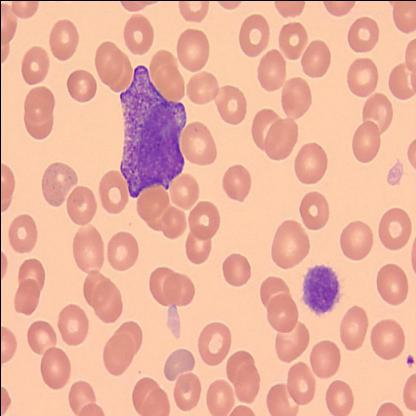Myelocyte: (114, 62, 188, 200)
